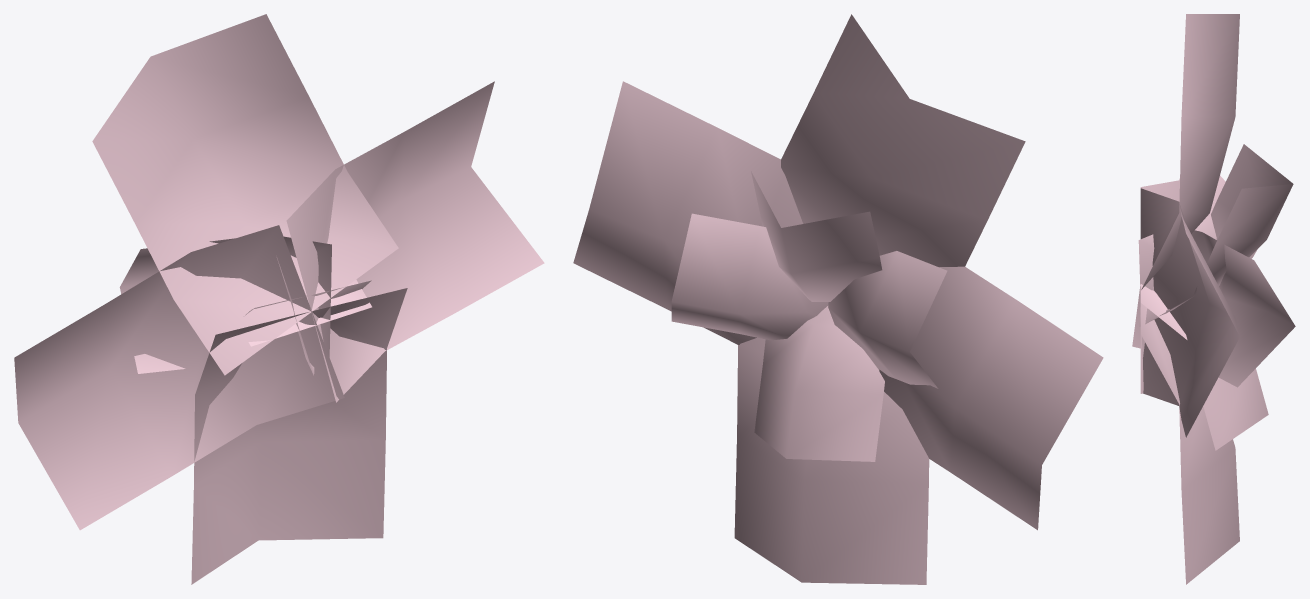
3 views of the same model, side by side, from view 1: azimuth 30°, elevation 25°; view 2: azimuth 150°, elevation 25°; view 3: azimuth 270°, elevation 25° (orthographic). The views are drawn at different scales.
Parts seen in each view (by area): view 1: Object70; view 2: Object70; view 3: Object70.
Part boxes in pixels (x1,y1,x2,y2): Object70: (14, 14, 544, 584); Object70: (573, 14, 1103, 584); Object70: (1132, 14, 1295, 584).
Bounding box in the file's own units: 29763 × 29633 × 8484.
